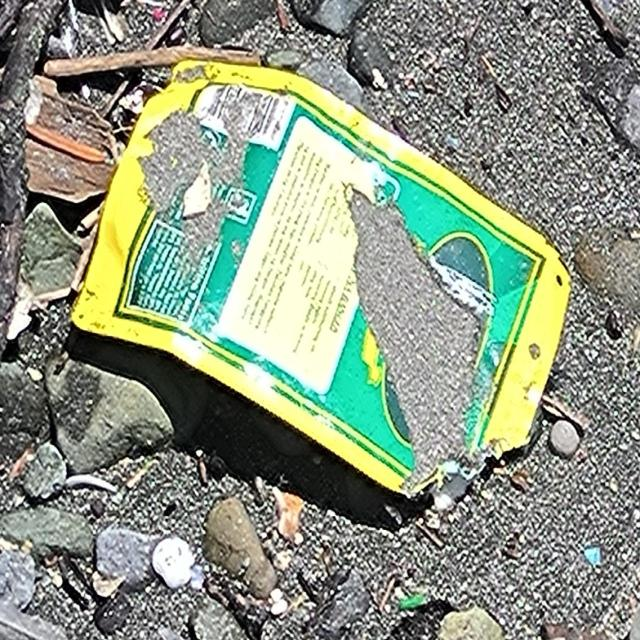plastic_waste: (73, 59, 577, 500)
